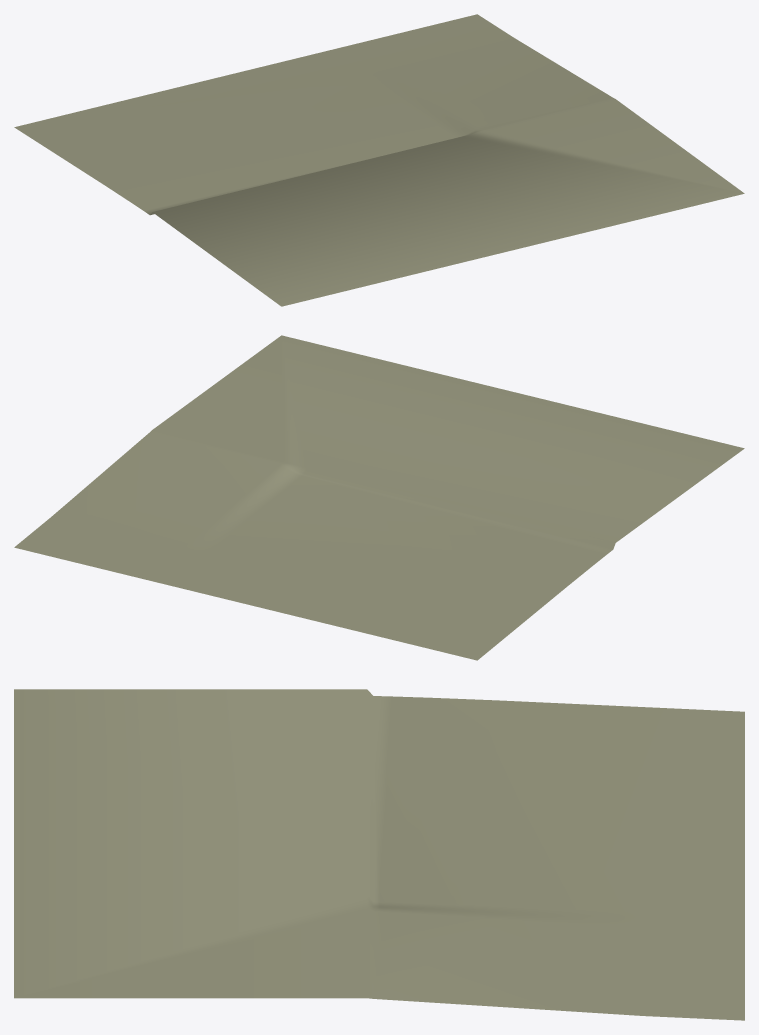
Rendered from SM_VB_CityTerrain_6_2.fbx.
3 views of the same model, one above another, from view 1: azimuth 30°, elevation 25°; view 2: azimuth 150°, elevation 25°; view 3: azimuth 270°, elevation 25° (orthographic). The views are drawn at different scales.
Visible parts, largest first — view 1: SM_VB_CityTerrain_6_2; view 2: SM_VB_CityTerrain_6_2; view 3: SM_VB_CityTerrain_6_2.
Boxes of the visible parts, x1,y1,x2,y2 form: SM_VB_CityTerrain_6_2: (14,14,744,306); SM_VB_CityTerrain_6_2: (14,335,744,660); SM_VB_CityTerrain_6_2: (14,689,744,1020).
Bounding box in the file's own units: 600 × 20.29 × 600.
